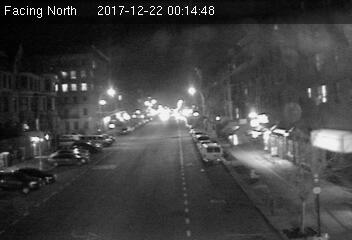truck: (199, 142, 224, 164)
